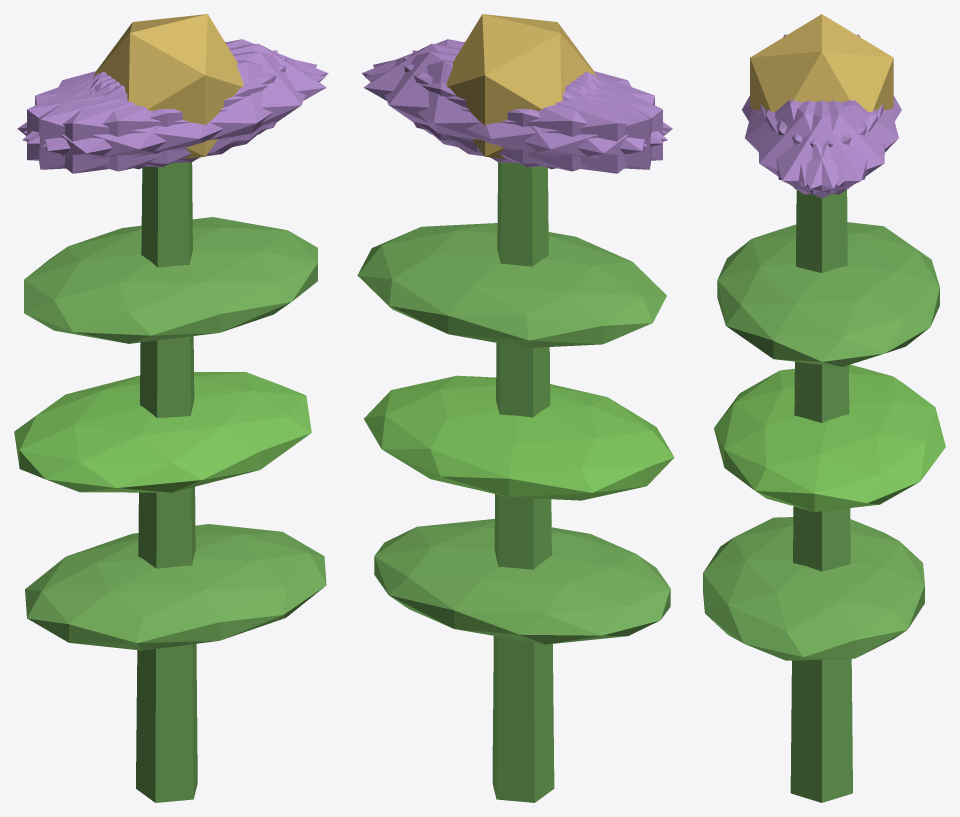
The model's file is monoon-longifolium.glb.
3 renders of one model, left to right at view 1: azimuth 30°, elevation 25°; view 2: azimuth 150°, elevation 25°; view 3: azimuth 270°, elevation 25°, orthographic.
Parts seen in each view (by area): view 1: leaf0, leaf2, leaf1, stem, center, petal1, petal6, petal2, petal5, petal7, petal0, petal4 (+2 smaller); view 2: leaf1, leaf2, leaf0, stem, center, petal8, petal3, petal7, petal4, petal2, petal0, petal5 (+2 smaller); view 3: leaf2, leaf1, leaf0, stem, center, petal0, petal4, petal5, petal1, petal8.
Part boxes in pixels (<box>): leaf0: <box>25,524,326,650</box>; leaf2: <box>24,217,317,343</box>; leaf1: <box>14,372,311,492</box>; stem: <box>136,162,197,802</box>; center: <box>94,14,243,159</box>; petal1: <box>22,60,325,171</box>; petal6: <box>17,73,237,173</box>; petal2: <box>38,50,277,169</box>; petal5: <box>43,51,316,163</box>; petal7: <box>27,56,286,167</box>; petal0: <box>94,43,326,153</box>; petal4: <box>23,39,328,143</box>; leaf1: <box>364,375,674,500</box>; leaf2: <box>357,223,666,348</box>; leaf0: <box>374,519,670,644</box>; stem: <box>492,162,554,802</box>; center: <box>446,14,595,159</box>; petal8: <box>364,60,667,171</box>; petal3: <box>453,73,672,173</box>; petal7: <box>412,50,651,169</box>; petal4: <box>373,51,647,163</box>; petal2: <box>403,57,662,167</box>; petal0: <box>363,43,596,153</box>; petal5: <box>361,39,666,143</box>; leaf2: <box>717,222,939,366</box>; leaf1: <box>714,364,945,511</box>; leaf0: <box>703,517,924,660</box>; stem: <box>790,189,852,802</box>; center: <box>750,14,893,111</box>; petal0: <box>760,100,883,198</box>; petal4: <box>765,100,885,194</box>; petal5: <box>758,100,877,194</box>; petal1: <box>745,100,867,186</box>; petal8: <box>776,100,898,186</box>.
Size of the model in its own units: 0.1452 by 0.3561 by 0.1037.
